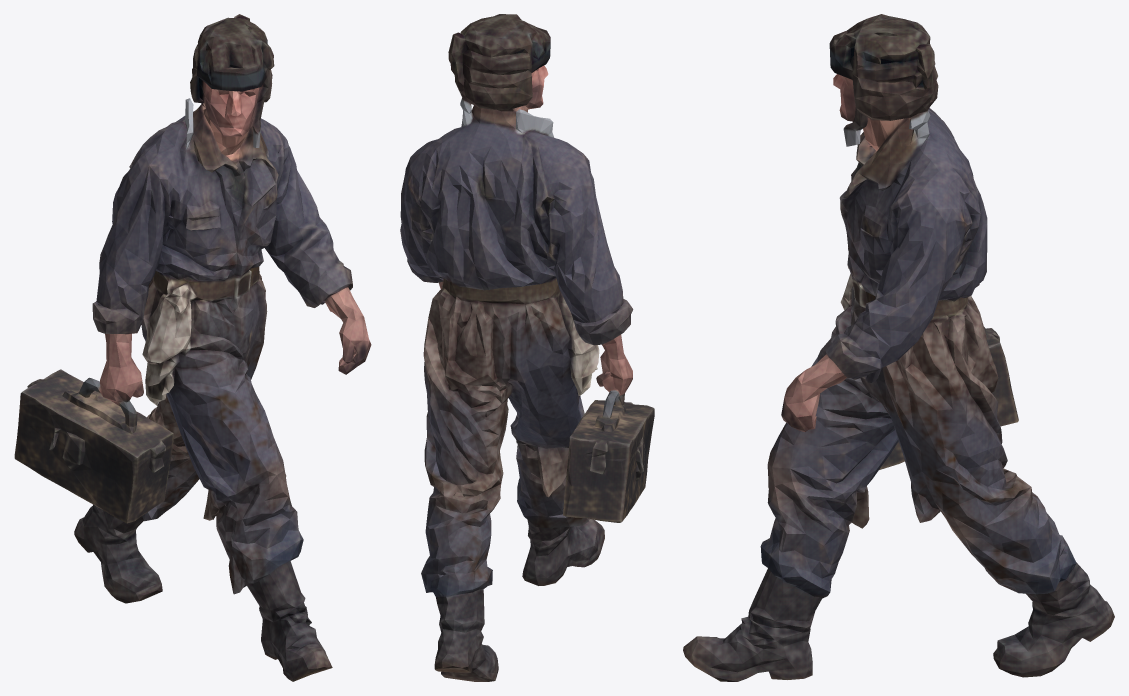
The model's file is walk_su_mech_a.obj.
3 renders of one model, left to right at view 1: azimuth 30°, elevation 25°; view 2: azimuth 150°, elevation 25°; view 3: azimuth 270°, elevation 25°, orthographic. The views are drawn at different scales.
Visible parts, largest first — view 1: walk_su_mech_a; view 2: walk_su_mech_a; view 3: walk_su_mech_a.
Boxes of the visible parts, bbox=[...] form: walk_su_mech_a: bbox=[14, 14, 371, 681]; walk_su_mech_a: bbox=[400, 14, 654, 681]; walk_su_mech_a: bbox=[683, 14, 1114, 681].
Bounding box in the file's own units: 0.8566 × 1.8 × 1.06.
Materials: 1 (1 with a texture image).
